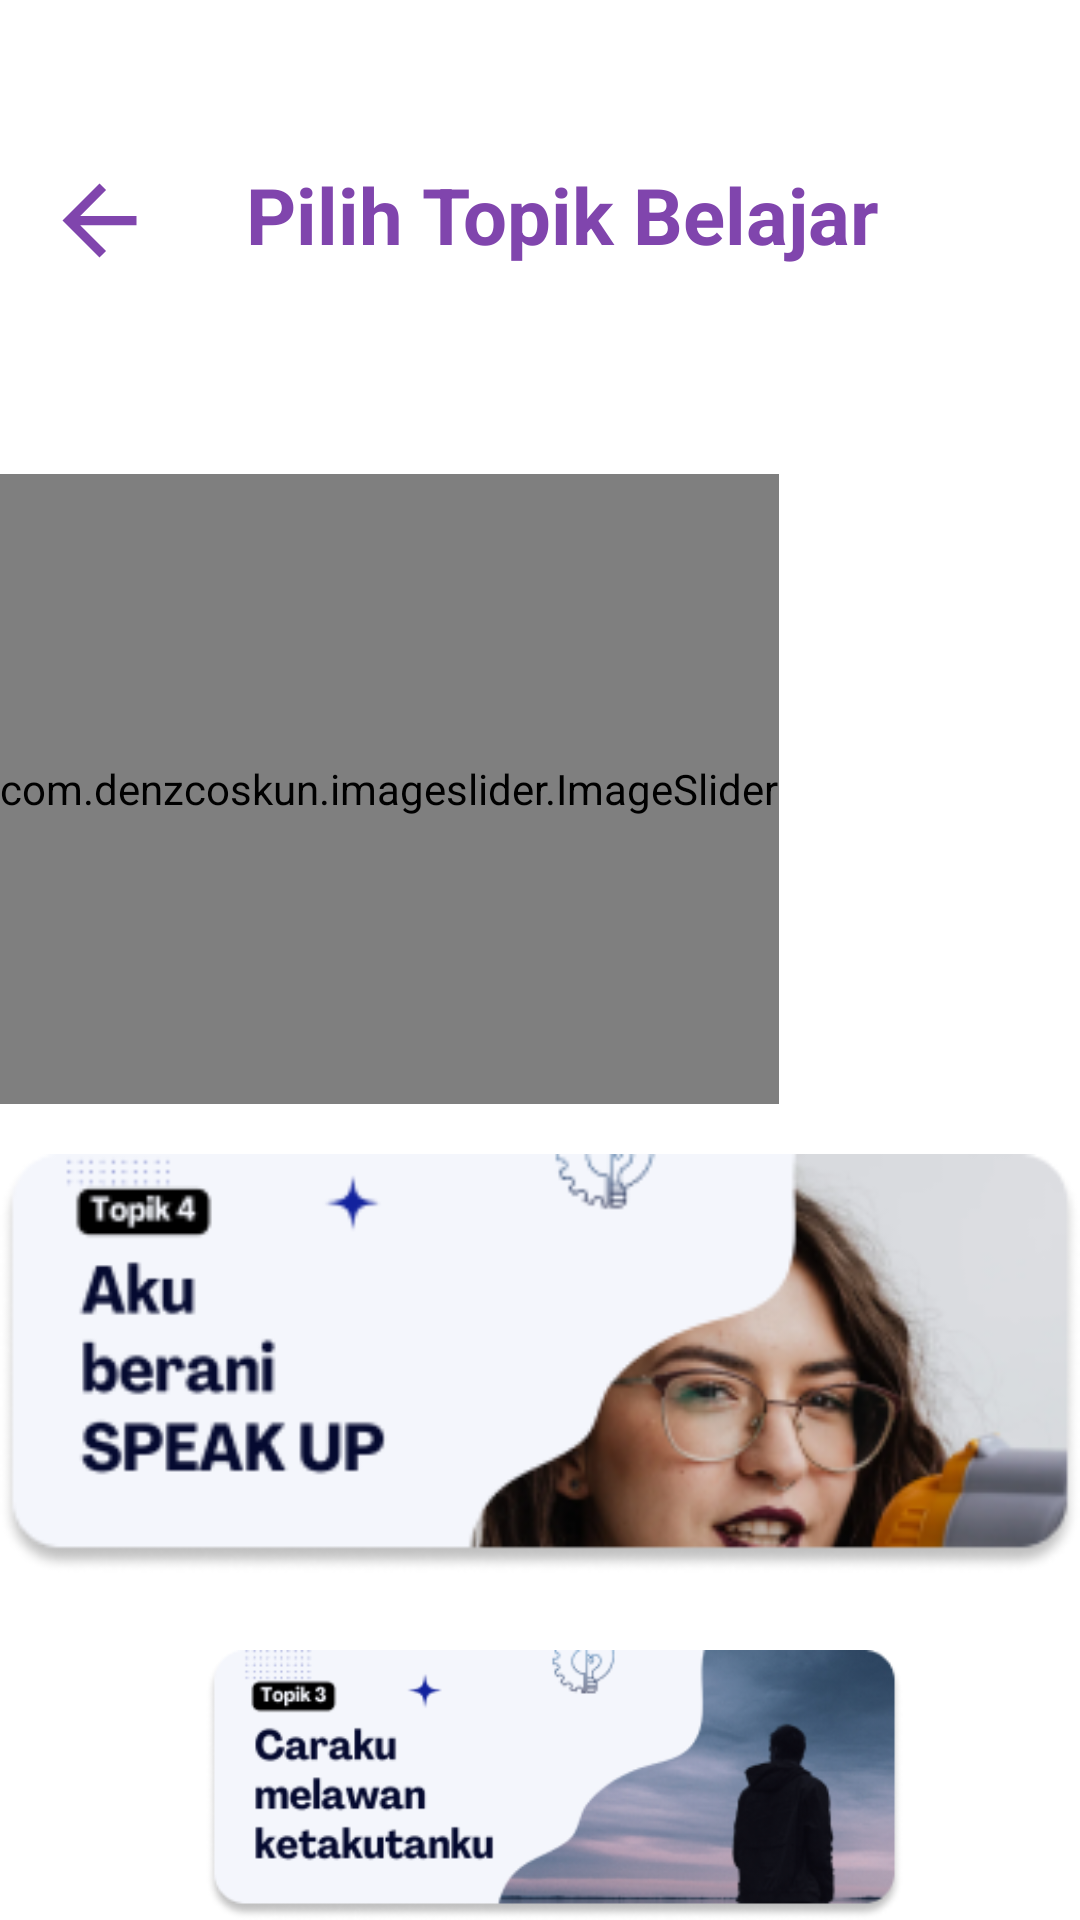

Icons on this 1080x1920 Android screen, each with its box as rect(x1, y1, x2, y2):
arrow back: rect(62, 183, 137, 258)
